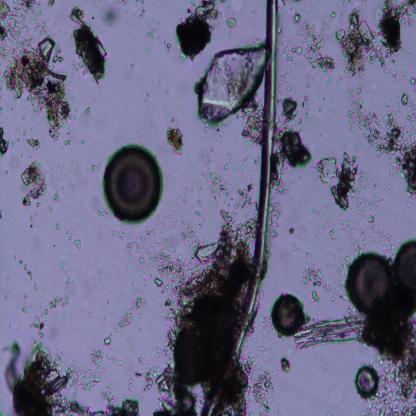Background material: (153, 217, 257, 410), (0, 1, 75, 139), (344, 79, 416, 197), (194, 36, 265, 123), (0, 340, 75, 415), (293, 316, 416, 360), (188, 140, 258, 216), (100, 226, 155, 296), (69, 5, 110, 85), (287, 13, 337, 74), (364, 358, 416, 416), (336, 10, 380, 67), (28, 290, 72, 340), (176, 0, 215, 56), (379, 0, 416, 56), (324, 208, 364, 258), (330, 152, 359, 209), (15, 163, 50, 204), (280, 128, 315, 168), (116, 294, 146, 334), (251, 368, 282, 406), (92, 396, 141, 414), (134, 353, 154, 394), (146, 24, 174, 53), (165, 126, 187, 160), (52, 264, 79, 291), (314, 155, 340, 183), (300, 262, 327, 287), (100, 0, 127, 23), (14, 255, 34, 281), (88, 345, 108, 370), (79, 370, 103, 390), (282, 97, 298, 121), (22, 133, 40, 154), (0, 124, 10, 158), (401, 69, 416, 87), (279, 356, 293, 375), (225, 13, 238, 32), (309, 289, 322, 305), (72, 238, 84, 253), (82, 101, 93, 117), (103, 335, 114, 349), (52, 188, 62, 203), (287, 238, 297, 251), (54, 218, 62, 233), (64, 136, 73, 146)
Diatom: (101, 144, 163, 224), (346, 254, 393, 315), (270, 292, 306, 336), (393, 236, 416, 300), (355, 364, 381, 400), (47, 373, 70, 396), (366, 212, 378, 233)
Microfibre: (202, 1, 282, 415)
